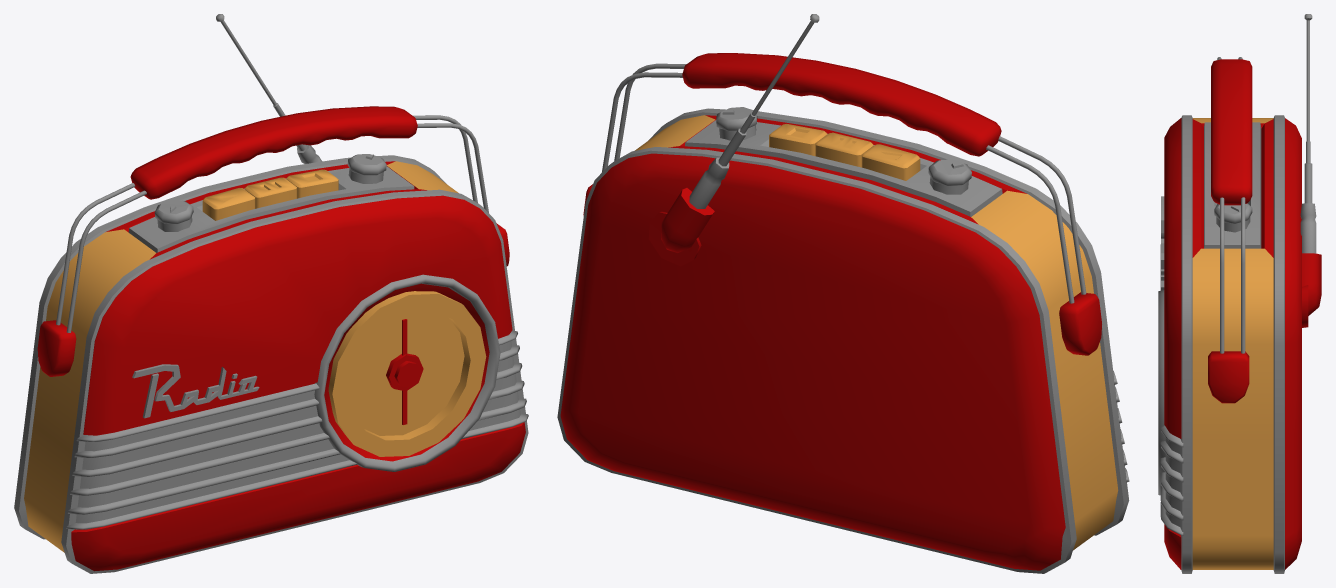
The model's file is SM_General_radio.FBX.
3 renders of one model, left to right at view 1: azimuth 30°, elevation 25°; view 2: azimuth 150°, elevation 25°; view 3: azimuth 270°, elevation 25°, orthographic. The views are drawn at different scales.
Visible parts, largest first — view 1: Box002; view 2: Box002; view 3: Box002.
Part boxes in pixels (x1=…): Box002: x1=14, y1=14, x2=528, y2=573; Box002: x1=557, y1=14, x2=1129, y2=573; Box002: x1=1158, y1=14, x2=1321, y2=573.
Bounding box in the file's own units: 31.73 × 9.91 × 30.73.
